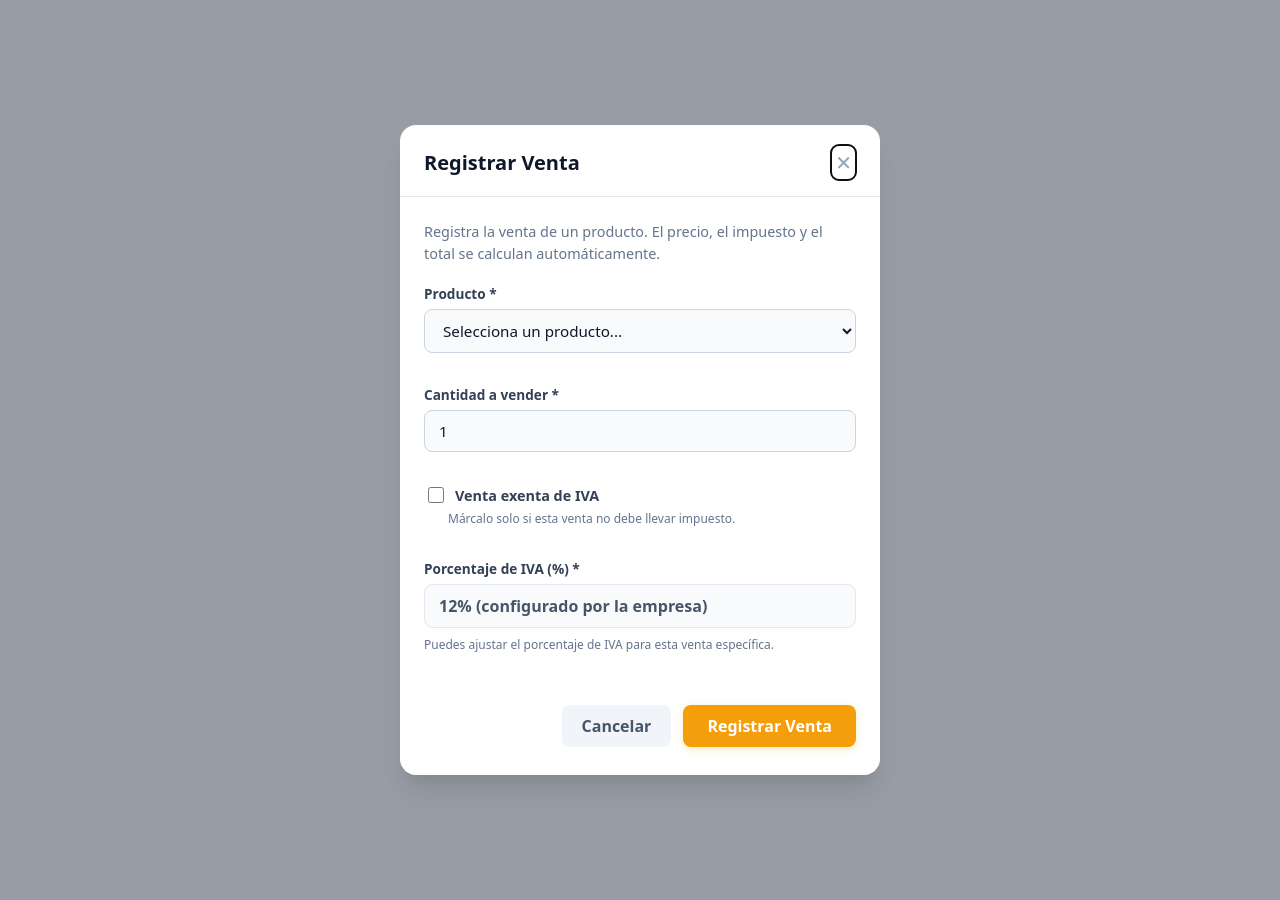
it: SaleModal — desglose de impuestos › recalcula subtotal/impuesto/total en vivo al cambiar producto o cantidad
Step 1. Select "Producto A (Stock: 10)" in the dropdown → (640, 331), box [424, 309, 856, 353]
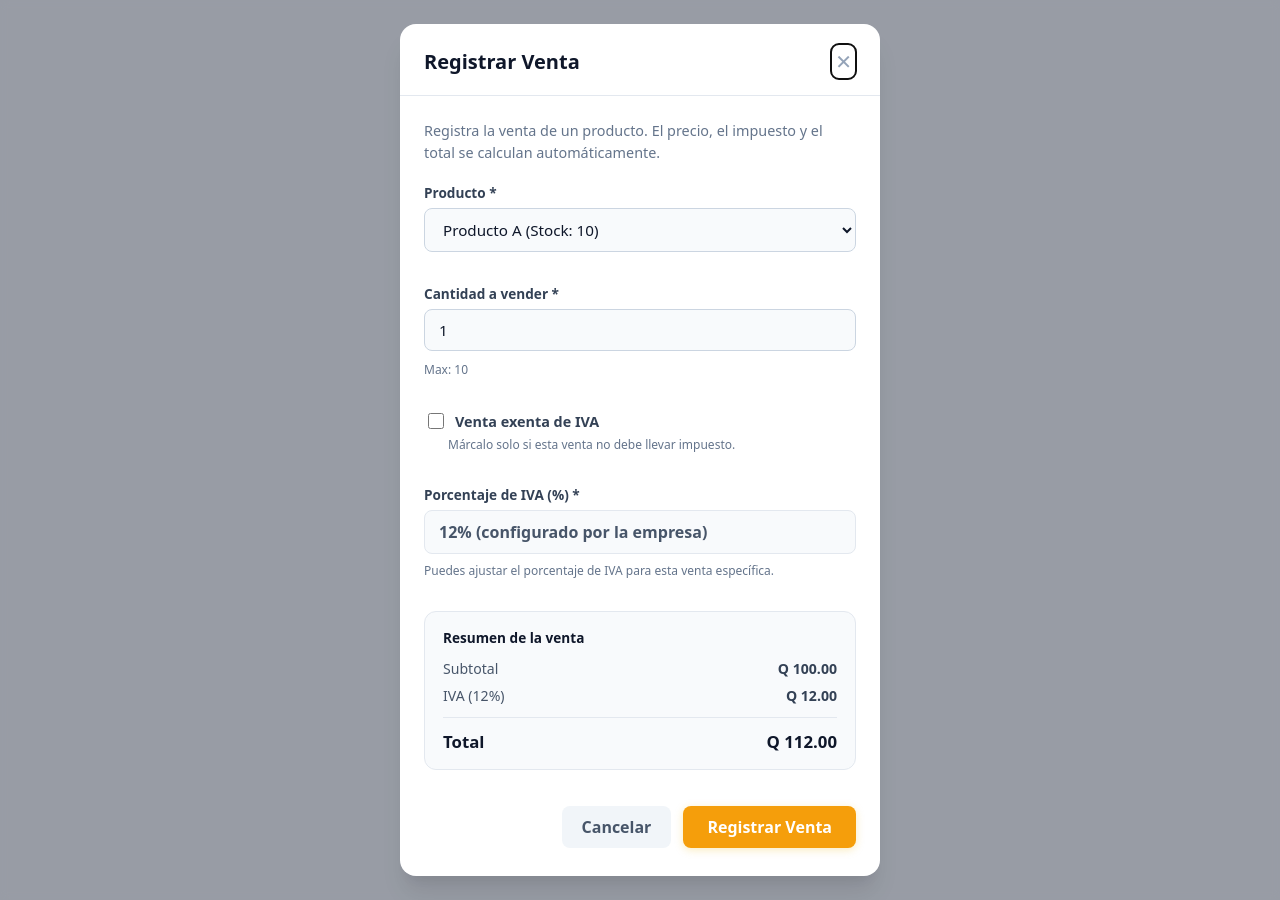
Step 2. Replace the text in the number field with "2" → (640, 330), box [424, 309, 856, 351]
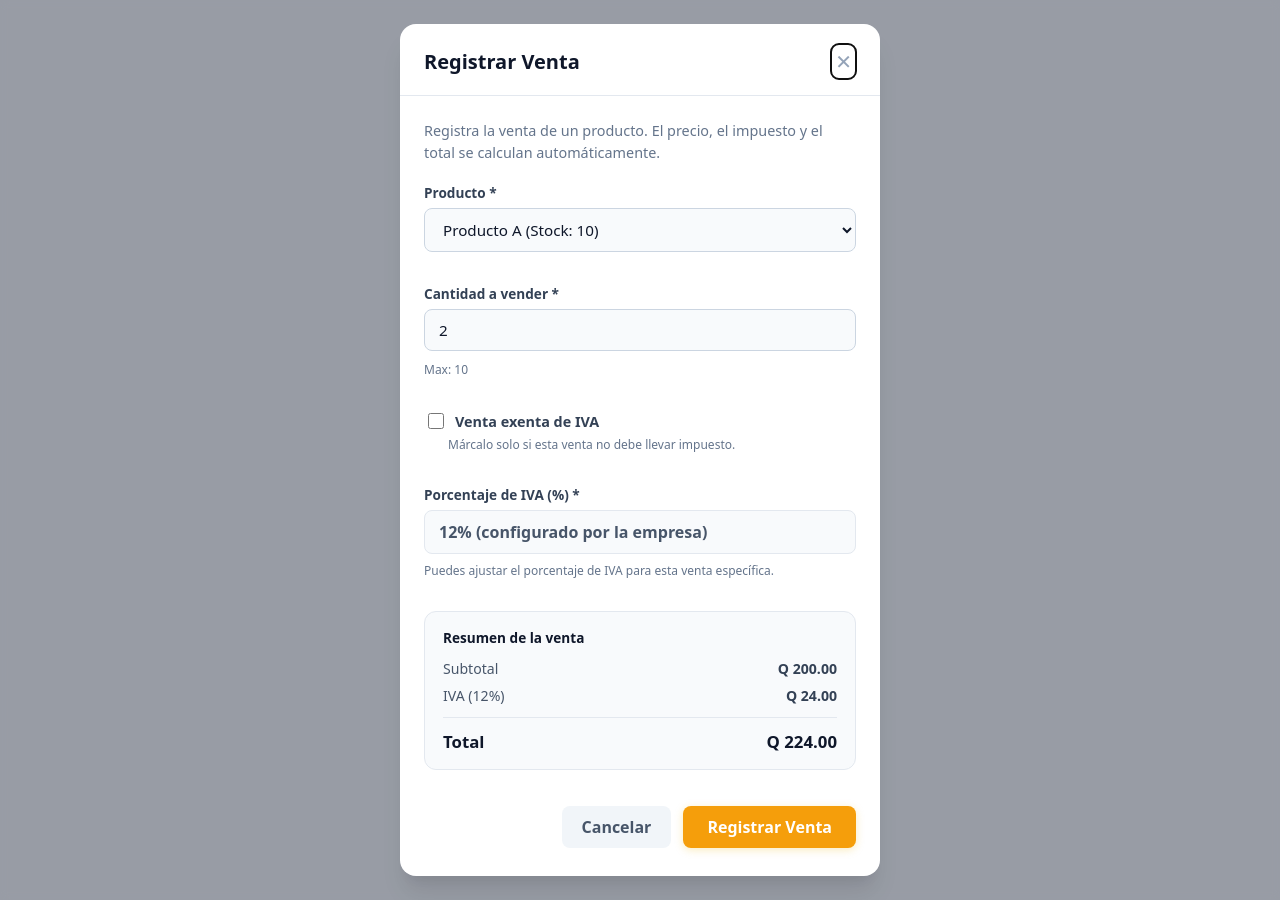
Expected: the text "IVA (12%)" is shown, [443, 686, 505, 705]
Expected: the text "Q 200.00" is shown, [778, 659, 837, 678]
Expected: the text "Q 24.00" is shown, [786, 686, 837, 705]
Step 3. Select "Producto B (Stock: 5)" in the dropdown → (640, 230), box [424, 208, 856, 252]
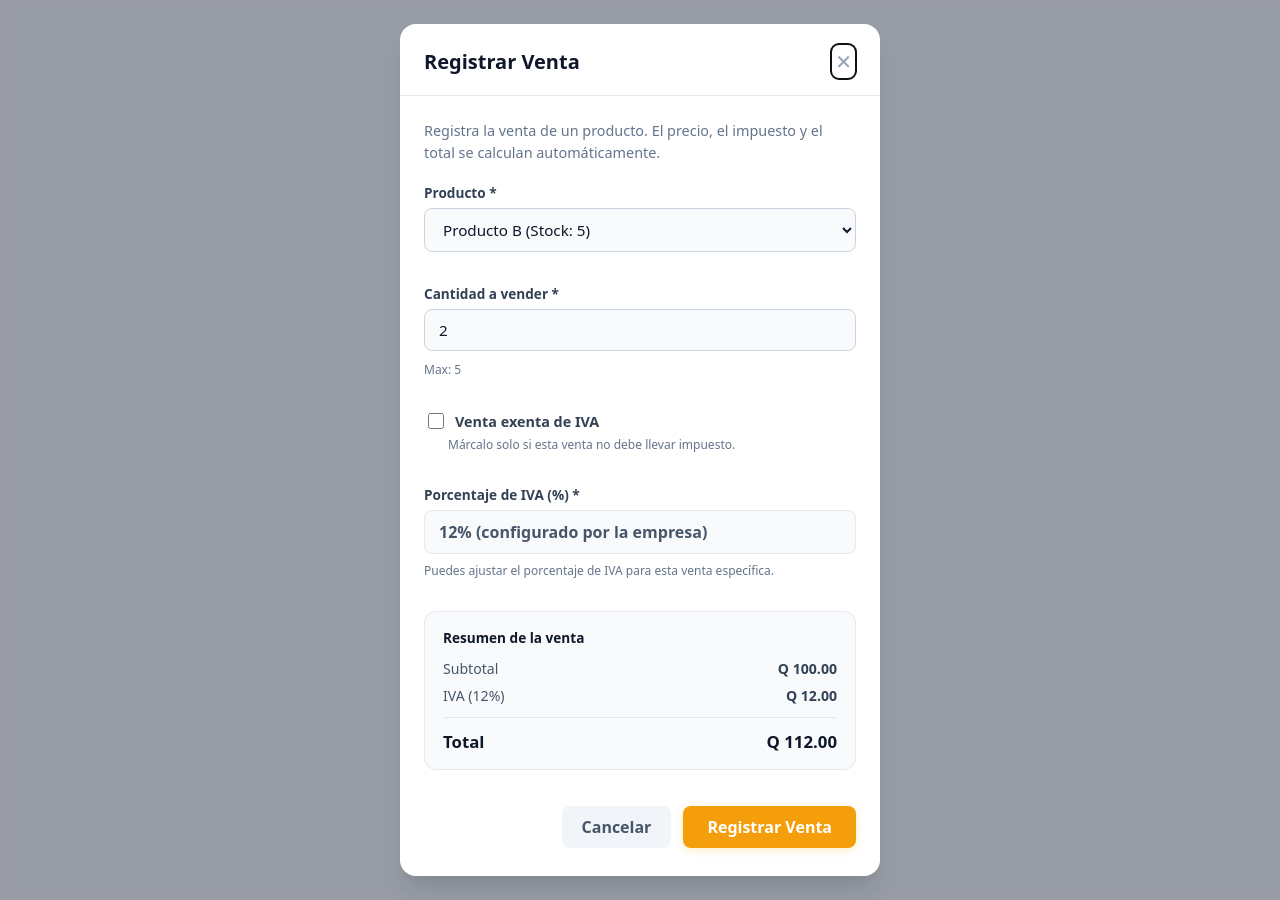
Expected: the text "Q 100.00" is shown, [778, 659, 837, 678]
Step 4. Replace the text in the number field with "3" → (640, 330), box [424, 309, 856, 351]
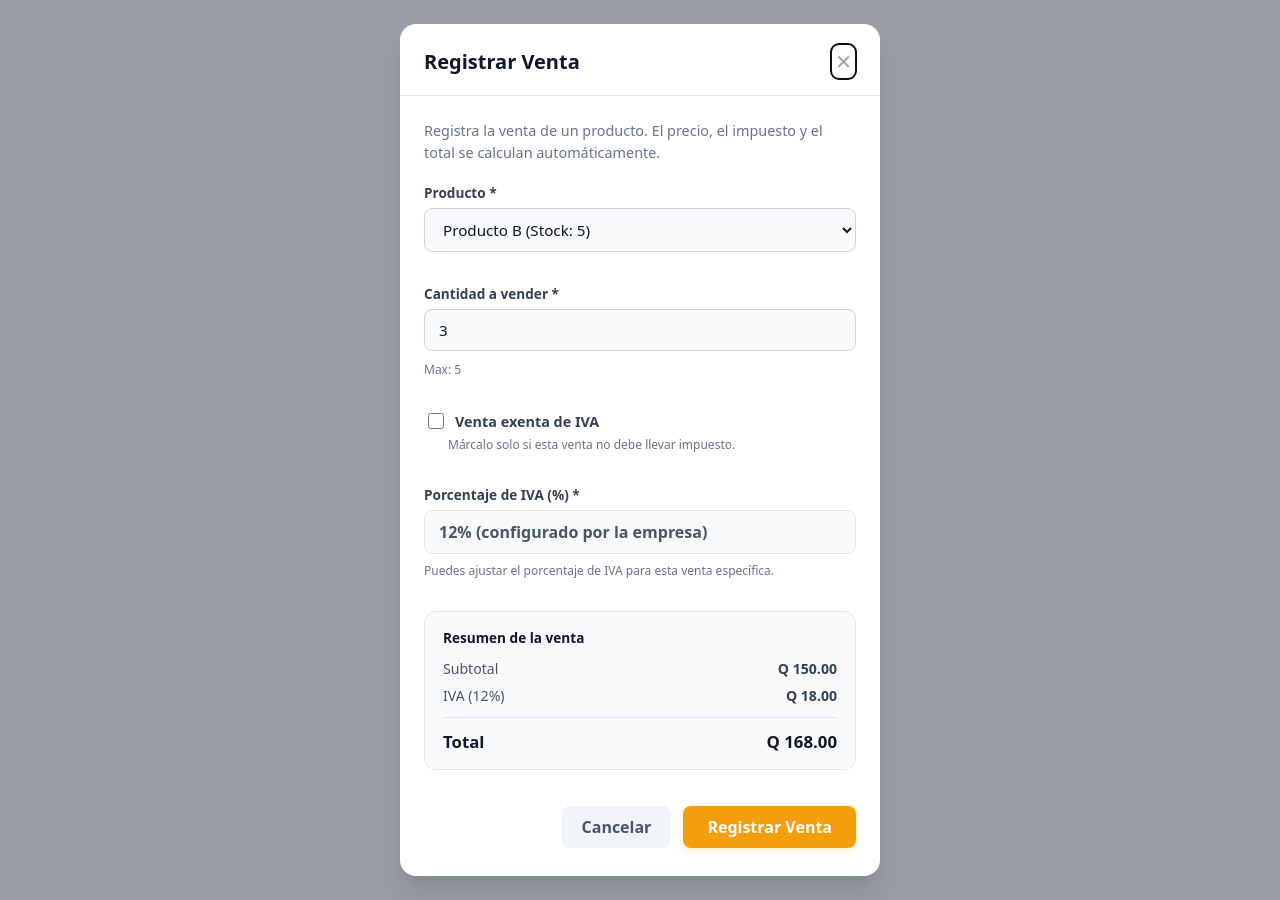
Expected: the text "Q 150.00" is shown, [778, 659, 837, 678]
